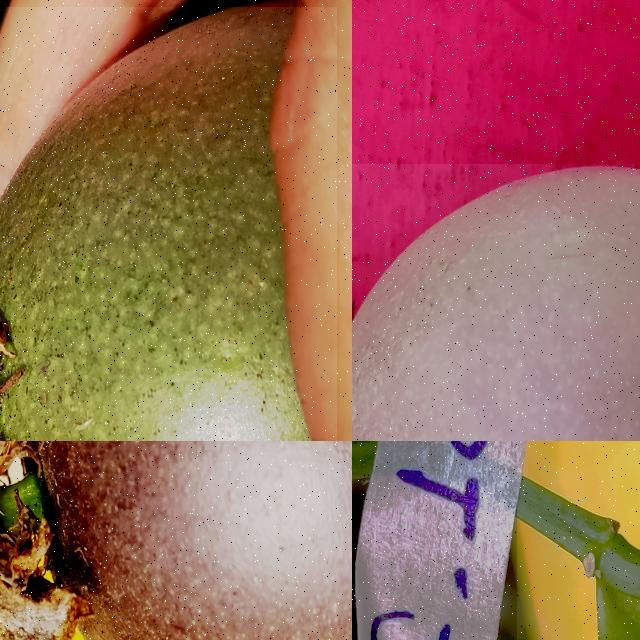Estado-1: (0, 8, 310, 441)
Estado-3: (352, 164, 640, 441)
Estado-5: (0, 441, 352, 640)
